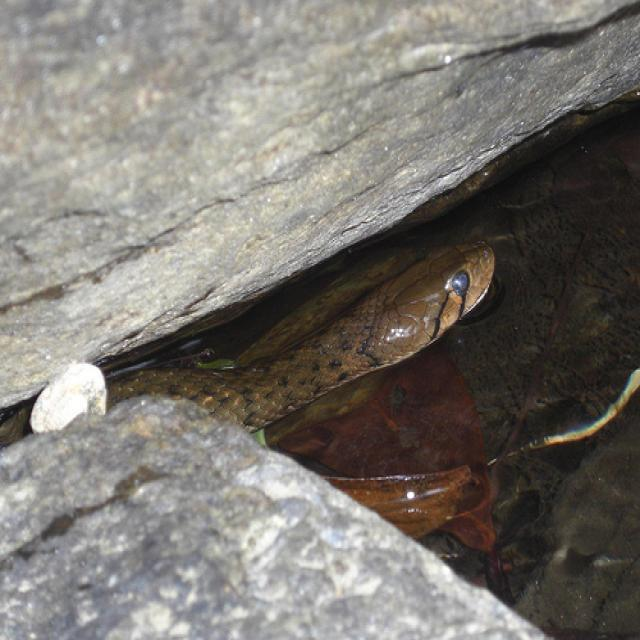Snake: (1, 235, 497, 446)
